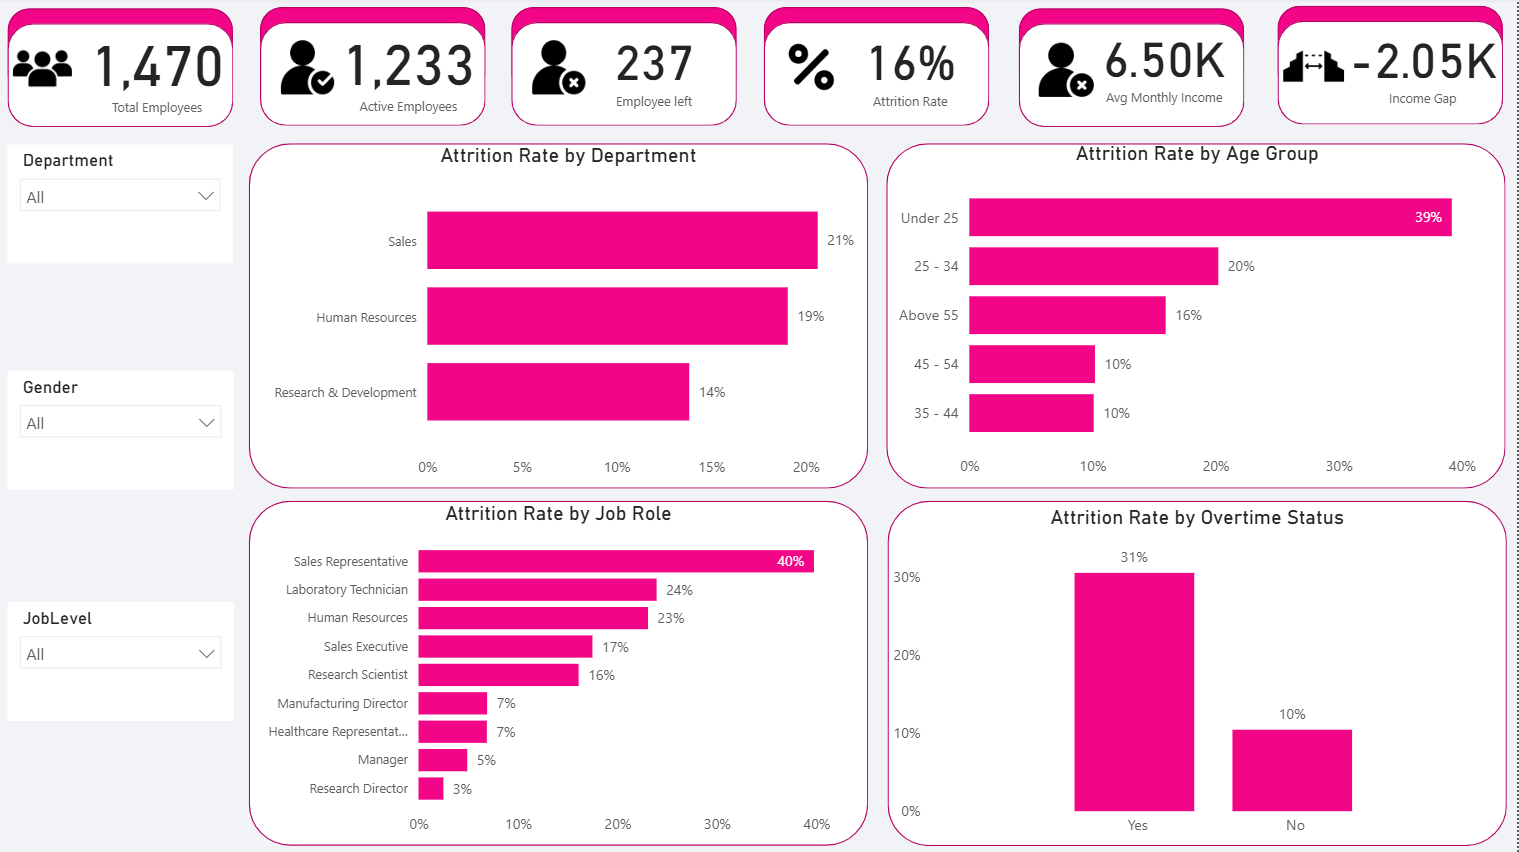

Layout of this report page (visuals, bound fields, positions):
{"tool":"powerbi","page":{"name":"Analysis 2","canvas":[1280,720],"ordinal":2},"visuals":[{"type":"group","id":"g1","title":"Group 1","box":[267.9,17.6,227.1,98.2],"z":0,"group":"g14"},{"type":"shape","box":[267.9,17.6,226.6,73.3],"z":0,"group":"g1"},{"type":"group","id":"g2","title":"Group 1","box":[528.5,18.2,227.1,98.2],"z":0,"group":"g13"},{"type":"shape","box":[528.5,18.2,226.6,73.3],"z":0,"group":"g2"},{"type":"group","id":"g3","title":"Group 1","box":[11.6,18.4,227,98.2],"z":0,"group":"g15"},{"type":"shape","box":[11.6,18.4,226.6,73.3],"z":0,"group":"g3"},{"type":"group","id":"g4","title":"Group 1","box":[785,19.6,227.1,98.2],"z":0,"group":"g12"},{"type":"shape","box":[785,19.6,226.6,73.3],"z":0,"group":"g4"},{"type":"group","id":"g5","title":"Group 1","box":[1041.3,19.6,227.1,98.2],"z":0,"group":"g11"},{"type":"shape","box":[1041.3,19.6,226.6,73.3],"z":0,"group":"g5"},{"type":"shape","box":[768.2,130.1,239.9,289.9],"z":0,"group":"g9"},{"type":"shape","box":[1019.4,130.8,248.6,289.9],"z":0,"group":"g7"},{"type":"slicer","fields":{"Values":["Dim_Department.Department"]},"box":[11.6,131.6,189.4,99.8],"z":0},{"type":"shape","box":[222.7,131.6,532,290],"z":0,"group":"g10"},{"type":"shape","box":[772.2,425.1,496.7,289.9],"z":0,"group":"g6"},{"type":"shape","box":[222.7,425.4,530.1,285.6],"z":0,"group":"g8"},{"type":"card","fields":{"Values":["Dim_Measures.AvgJobSatisfaction"]},"box":[73.9,17.6,165,100],"z":1000,"group":"g15"},{"type":"card","fields":{"Values":["Dim_Measures.AvgTenureYears"]},"box":[589.9,17.6,165,100],"z":1000,"group":"g13"},{"type":"card","fields":{"Values":["Dim_Measures.AttritionbySatisfactionLevel"]},"box":[835.8,17.6,175.5,100],"z":1000,"group":"g12"},{"type":"card","fields":{"Values":["Dim_Measures.OverTimeAttritionRate"]},"box":[1109.6,17.6,159.4,100],"z":1000,"group":"g11"},{"type":"card","fields":{"Values":["Dim_Measures.HighPerformerAttritoinRate"]},"box":[316,17.7,182.5,99.3],"z":1000,"group":"g14"},{"type":"shape","box":[268,30,226.9,85.7],"z":1000,"group":"g1"},{"type":"shape","box":[528.6,30.6,226.9,85.7],"z":1000,"group":"g2"},{"type":"shape","box":[11.7,30.8,226.9,85.7],"z":1000,"group":"g3"},{"type":"shape","box":[785.1,32,226.9,85.7],"z":1000,"group":"g4"},{"type":"shape","box":[1041.4,32,226.9,85.7],"z":1000,"group":"g5"},{"type":"pieChart","title":"Attrition Distribution by Gender","fields":{"Category":["Dim_Employee.Gender"],"Y":["Dim_Measures.TotalAttritions"]},"box":[766.3,130,240,289.2],"z":1000,"group":"g9"},{"type":"clusteredBarChart","title":"Attrition Rate by Job Level","fields":{"Category":["Dim_Employee.JobLevel"],"Y":["Dim_Measures.AttritionRate"]},"box":[1019.6,130.1,249.8,289.4],"z":1000,"group":"g7"},{"type":"lineChart","title":"Attrition Rate by Tenure (Years at Company)","fields":{"Category":["Dim_Employee.YearsAtCompany"],"Y":["Dim_Measures.AttritionRate"]},"box":[223,132,531.5,289.9],"z":1000,"group":"g10"},{"type":"slicer","fields":{"Values":["Dim_Employee.Gender"]},"box":[11.6,360.1,189.4,99.8],"z":1000},{"type":"clusteredColumnChart","title":"Average Monthly Income: Active vs Attrited Employees","fields":{"Y":["Dim_Measures.AvgMonthlyIncome"],"Category":["Fact_Employee.Attrition"]},"box":[223.3,425.1,529.6,290.1],"z":1000,"group":"g8"},{"type":"clusteredColumnChart","title":"Attrition Rate by Job Satisfaction Level","fields":{"Category":["Dim_Satisfaction.JobSatisfaction"],"Y":["Dim_Measures.AttritionRate"]},"box":[772.2,425.1,495.7,289.9],"z":1000,"group":"g6"},{"type":"image","box":[1041.1,40.8,70.6,67.1],"z":2000,"group":"g11"},{"type":"image","box":[26.4,41.9,62.2,62.2],"z":2000,"group":"g15"},{"type":"image","box":[272.7,41.9,61.5,60.8],"z":2000,"group":"g14"},{"type":"image","box":[539,43,59.4,60],"z":2000,"group":"g13"},{"type":"image","box":[784.8,49.2,79.7,50.3],"z":2000,"group":"g12"},{"type":"slicer","fields":{"Values":["Dim_Employee.JobLevel"]},"box":[11.6,571.2,189.4,99.8],"z":2000},{"type":"group","id":"g6","title":"Att by Job Sat","box":[772.2,425.1,496,290.7],"z":3000},{"type":"group","id":"g7","title":"Att by Job Level","box":[1019.4,130.1,250.2,290.7],"z":4000},{"type":"group","id":"g8","title":"Att by Inc","box":[222.7,425.1,530.7,290.7],"z":5000},{"type":"group","id":"g9","title":"Att by Gen","box":[766.3,130,241.7,290],"z":6000},{"type":"group","id":"g10","title":"Att by Years","box":[222.7,131.6,532.1,290.7],"z":7000},{"type":"group","id":"g11","title":"Card 5","box":[1041.1,17.6,227,99.8],"z":8000},{"type":"group","id":"g12","title":"Card 4","box":[784.8,17.6,227,99.8],"z":9000},{"type":"group","id":"g13","title":"Card 3","box":[528.5,17.6,227,99.8],"z":10000},{"type":"group","id":"g14","title":"Card 2","box":[267.9,17.6,231.4,99.8],"z":11000},{"type":"group","id":"g15","title":"Card 1","box":[11.6,17.6,227,99.8],"z":12000}]}

Visuals, with their boxes in screenshot pixels (x1, y1, x2, y2), scaled from the page's 1280x720 canvas onto the 1519x852 screenshot:
"Group 1" group: {"x1": 318, "y1": 21, "x2": 587, "y2": 137}
shape: {"x1": 318, "y1": 21, "x2": 587, "y2": 108}
"Group 1" group: {"x1": 627, "y1": 22, "x2": 897, "y2": 138}
shape: {"x1": 627, "y1": 22, "x2": 896, "y2": 108}
"Group 1" group: {"x1": 14, "y1": 22, "x2": 283, "y2": 138}
shape: {"x1": 14, "y1": 22, "x2": 283, "y2": 109}
"Group 1" group: {"x1": 932, "y1": 23, "x2": 1201, "y2": 139}
shape: {"x1": 932, "y1": 23, "x2": 1200, "y2": 110}
"Group 1" group: {"x1": 1236, "y1": 23, "x2": 1505, "y2": 139}
shape: {"x1": 1236, "y1": 23, "x2": 1505, "y2": 110}
shape: {"x1": 912, "y1": 154, "x2": 1196, "y2": 497}
shape: {"x1": 1210, "y1": 155, "x2": 1505, "y2": 498}
slicer - Dim_Department.Department: {"x1": 14, "y1": 156, "x2": 239, "y2": 274}
shape: {"x1": 264, "y1": 156, "x2": 896, "y2": 499}
shape: {"x1": 916, "y1": 503, "x2": 1506, "y2": 846}
shape: {"x1": 264, "y1": 503, "x2": 893, "y2": 841}
card - Dim_Measures.AvgJobSatisfaction: {"x1": 88, "y1": 21, "x2": 284, "y2": 139}
card - Dim_Measures.AvgTenureYears: {"x1": 700, "y1": 21, "x2": 896, "y2": 139}
card - Dim_Measures.AttritionbySatisfactionLevel: {"x1": 992, "y1": 21, "x2": 1200, "y2": 139}
card - Dim_Measures.OverTimeAttritionRate: {"x1": 1317, "y1": 21, "x2": 1506, "y2": 139}
card - Dim_Measures.HighPerformerAttritoinRate: {"x1": 375, "y1": 21, "x2": 592, "y2": 138}
shape: {"x1": 318, "y1": 36, "x2": 587, "y2": 137}
shape: {"x1": 627, "y1": 36, "x2": 897, "y2": 138}
shape: {"x1": 14, "y1": 36, "x2": 283, "y2": 138}
shape: {"x1": 932, "y1": 38, "x2": 1201, "y2": 139}
shape: {"x1": 1236, "y1": 38, "x2": 1505, "y2": 139}
"Attrition Distribution by Gender" pieChart: {"x1": 909, "y1": 154, "x2": 1194, "y2": 496}
"Attrition Rate by Job Level" clusteredBarChart: {"x1": 1210, "y1": 154, "x2": 1506, "y2": 496}
"Attrition Rate by Tenure (Years at Company)" lineChart: {"x1": 265, "y1": 156, "x2": 895, "y2": 499}
slicer - Dim_Employee.Gender: {"x1": 14, "y1": 426, "x2": 239, "y2": 544}
"Average Monthly Income: Active vs Attrited Employees" clusteredColumnChart: {"x1": 265, "y1": 503, "x2": 893, "y2": 846}
"Attrition Rate by Job Satisfaction Level" clusteredColumnChart: {"x1": 916, "y1": 503, "x2": 1505, "y2": 846}
image: {"x1": 1235, "y1": 48, "x2": 1319, "y2": 128}
image: {"x1": 31, "y1": 50, "x2": 105, "y2": 123}
image: {"x1": 324, "y1": 50, "x2": 397, "y2": 122}
image: {"x1": 640, "y1": 51, "x2": 710, "y2": 122}
image: {"x1": 931, "y1": 58, "x2": 1026, "y2": 118}
slicer - Dim_Employee.JobLevel: {"x1": 14, "y1": 676, "x2": 239, "y2": 794}
"Att by Job Sat" group: {"x1": 916, "y1": 503, "x2": 1505, "y2": 847}
"Att by Job Level" group: {"x1": 1210, "y1": 154, "x2": 1507, "y2": 498}
"Att by Inc" group: {"x1": 264, "y1": 503, "x2": 894, "y2": 847}
"Att by Gen" group: {"x1": 909, "y1": 154, "x2": 1196, "y2": 497}
"Att by Years" group: {"x1": 264, "y1": 156, "x2": 896, "y2": 500}
"Card 5" group: {"x1": 1235, "y1": 21, "x2": 1505, "y2": 139}
"Card 4" group: {"x1": 931, "y1": 21, "x2": 1201, "y2": 139}
"Card 3" group: {"x1": 627, "y1": 21, "x2": 897, "y2": 139}
"Card 2" group: {"x1": 318, "y1": 21, "x2": 593, "y2": 139}
"Card 1" group: {"x1": 14, "y1": 21, "x2": 283, "y2": 139}
